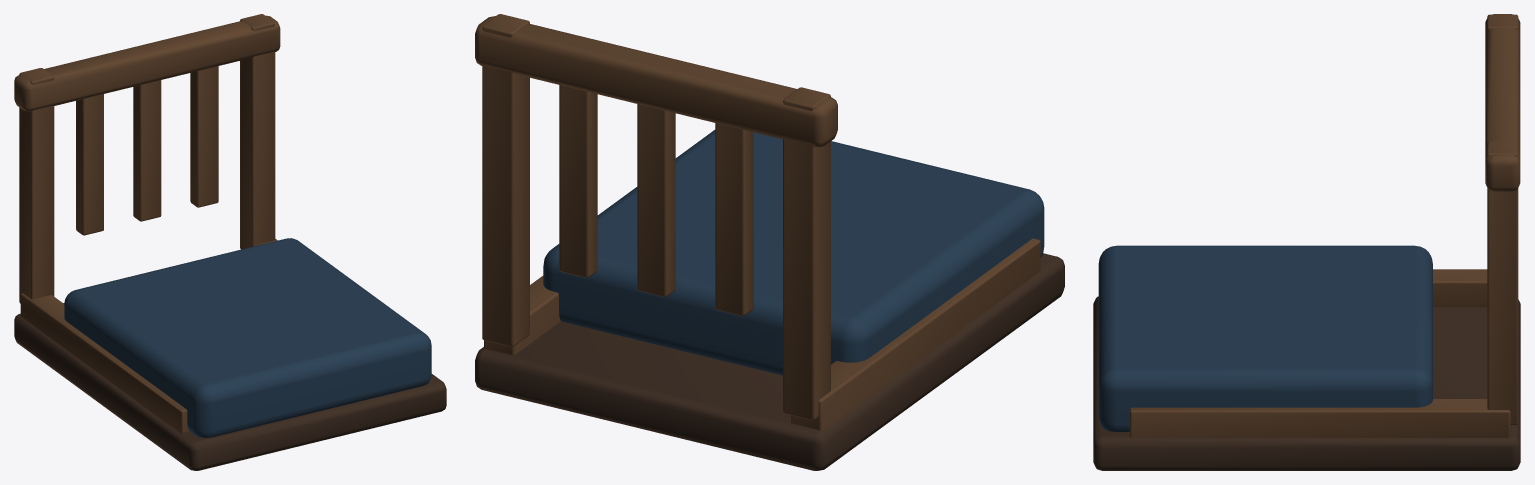
File: kominka-zaisu-01.glb
The picture shows the model from 3 angles, left to right: view 1: azimuth 30°, elevation 25°; view 2: azimuth 150°, elevation 25°; view 3: azimuth 270°, elevation 25°; orthographic projection. The views are drawn at different scales.
Visible parts, largest first — view 1: kominka-zaisu-01; view 2: kominka-zaisu-01; view 3: kominka-zaisu-01.
Boxes of the visible parts, x1,y1,x2,y2 form: kominka-zaisu-01: [14, 14, 446, 470]; kominka-zaisu-01: [475, 14, 1064, 470]; kominka-zaisu-01: [1093, 14, 1520, 470].
Size of the model in its own units: 0.45 by 0.45 by 0.55.
